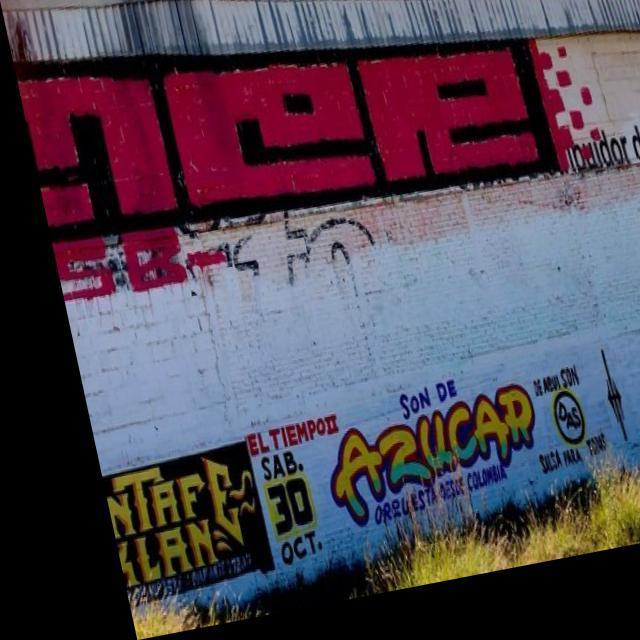-: (7, 0, 600, 276)
